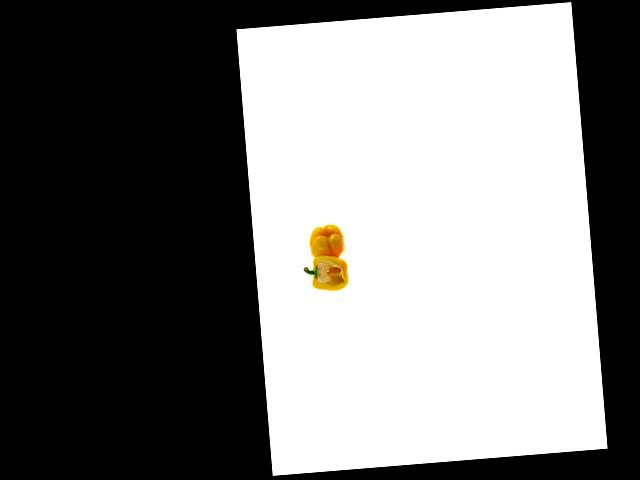bell_pepper: (301, 246, 357, 295)
